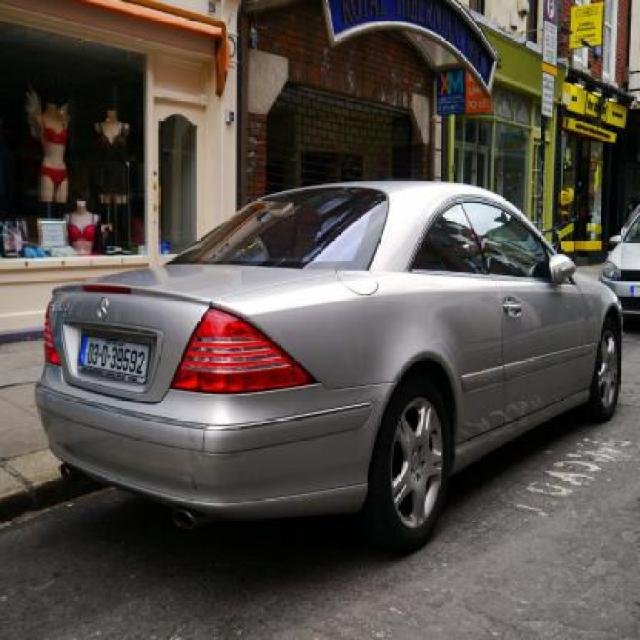License-Plates: (78, 334, 150, 384)
